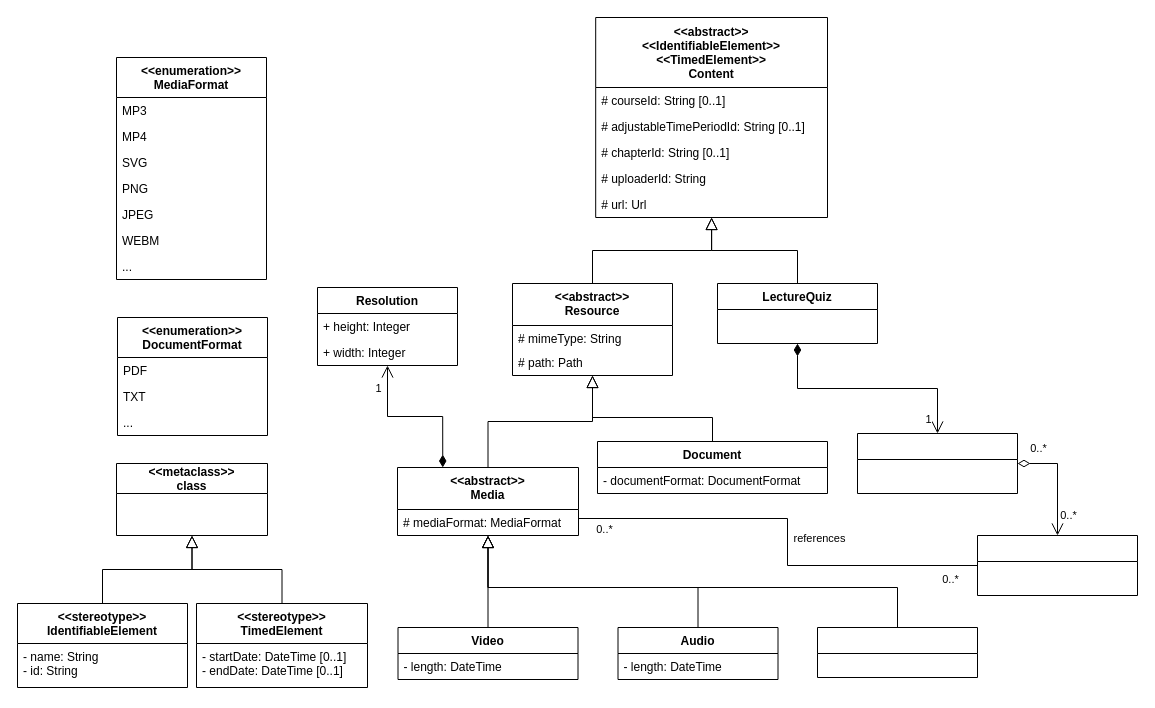
Image size: 1155x708. Some labels were removed from this diagram. The centre of each missing label's shape, as x and y in pixels:
"Image" belongs at pixel 897 652.
"Question" belongs at pixel 1057 565.
"Quiz" belongs at pixel 937 463.
